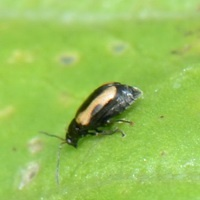insect: (40, 82, 141, 147)
